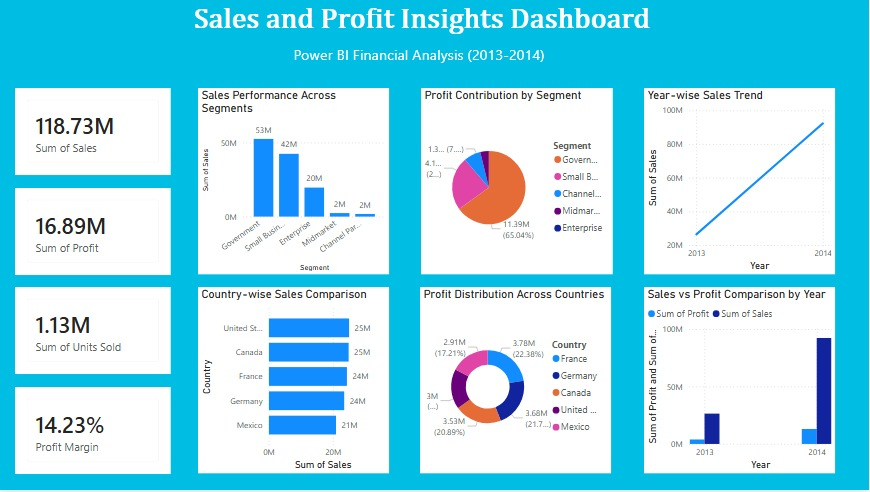

The page's visual inventory and layout, read from the dashboard file:
{"tool":"powerbi","page":{"name":"Page 1","canvas":[1280,720],"ordinal":0},"visuals":[{"type":"cardVisual","fields":{"Data":["Sum(financials.Sales)"]},"box":[24.1,129.3,229.3,127.6],"z":0},{"type":"cardVisual","fields":{"Data":["Sum(financials.Profit)"]},"box":[24.1,275.9,229.3,127.6],"z":1000},{"type":"cardVisual","fields":{"Data":["Sum(financials.Units Sold)"]},"box":[24.1,422.4,229.3,127.6],"z":2000},{"type":"cardVisual","fields":{"Data":["financials.Profit Margin"]},"box":[24.1,569,229.3,127.6],"z":3000},{"type":"columnChart","title":"Sales Performance Across Segments ","fields":{"Category":["financials.Segment"],"Y":["Sum(financials.Sales)"]},"box":[293.1,129.3,281,274.1],"z":4000},{"type":"pieChart","title":" Profit Contribution by Segment","fields":{"Category":["financials.Segment"],"Y":["Sum(financials.Profit)"]},"box":[620,129.2,281.5,273.8],"z":5000},{"type":"lineChart","title":"Year-wise Sales Trend ","fields":{"Category":["financials.Year"],"Y":["Sum(financials.Sales)"]},"box":[948.3,129.3,281,274.1],"z":6000},{"type":"barChart","title":"Country-wise Sales Comparison ","fields":{"Category":["financials.Country"],"Y":["Sum(financials.Sales)"]},"box":[293.1,422.4,281,274.1],"z":7000},{"type":"donutChart","title":"Profit Distribution Across Countries ","fields":{"Y":["Sum(financials.Profit)"],"Category":["financials.Country","financials.Segment"]},"box":[619,422.4,281,274.1],"z":8000},{"type":"clusteredColumnChart","title":"Sales vs Profit Comparison by Year","fields":{"Y":["Sum(financials.Profit)","Sum(financials.Sales)"],"Category":["financials.Year"]},"box":[948.3,422.4,281,274.1],"z":9000},{"type":"textbox","box":[275.9,0,689.7,72.4],"z":10000},{"type":"textbox","box":[419,60.3,396.6,50],"z":10001}]}

Visuals, with their boxes in screenshot pixels (x1, y1, x2, y2), scaled from the page's 1280x720 canvas onto the 870x492 screenshot:
cardVisual - Sum(financials.Sales): 16 88 172 176
cardVisual - Sum(financials.Profit): 16 189 172 276
cardVisual - Sum(financials.Units Sold): 16 289 172 376
cardVisual - financials.Profit Margin: 16 389 172 476
"Sales Performance Across Segments " columnChart: 199 88 390 276
" Profit Contribution by Segment" pieChart: 421 88 613 275
"Year-wise Sales Trend " lineChart: 645 88 836 276
"Country-wise Sales Comparison " barChart: 199 289 390 476
"Profit Distribution Across Countries " donutChart: 421 289 612 476
"Sales vs Profit Comparison by Year" clusteredColumnChart: 645 289 836 476
textbox: 188 0 656 49
textbox: 285 41 554 75
